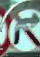Don't turn right: (0, 2, 38, 51)
